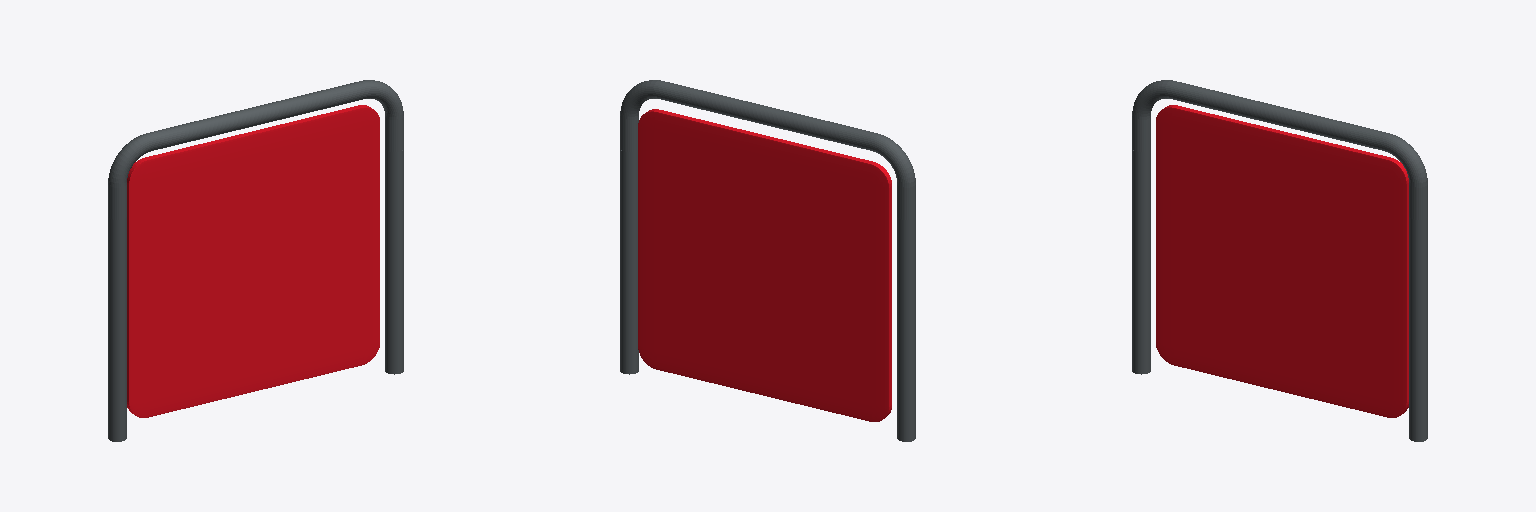
File: spinner.obj
3 views of the same model, side by side, from view 1: azimuth 30°, elevation 25°; view 2: azimuth 150°, elevation 25°; view 3: azimuth 330°, elevation 25° (orthographic).
Visible parts, largest first — view 1: obj_0; view 2: obj_0; view 3: obj_0.
Part boxes in pixels (x1,y1,x2,y2): obj_0: (108, 80, 403, 441); obj_0: (620, 80, 915, 441); obj_0: (1132, 80, 1427, 441).
Bounding box in the file's own units: 181 × 175 × 10.